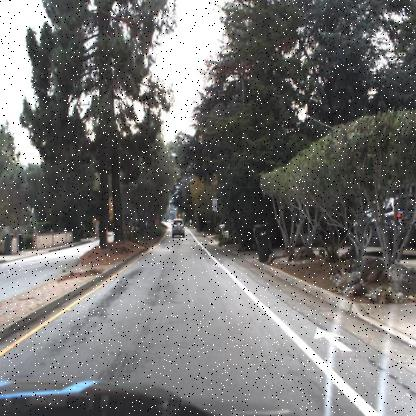car: (347, 191, 415, 259), (166, 214, 187, 242)
